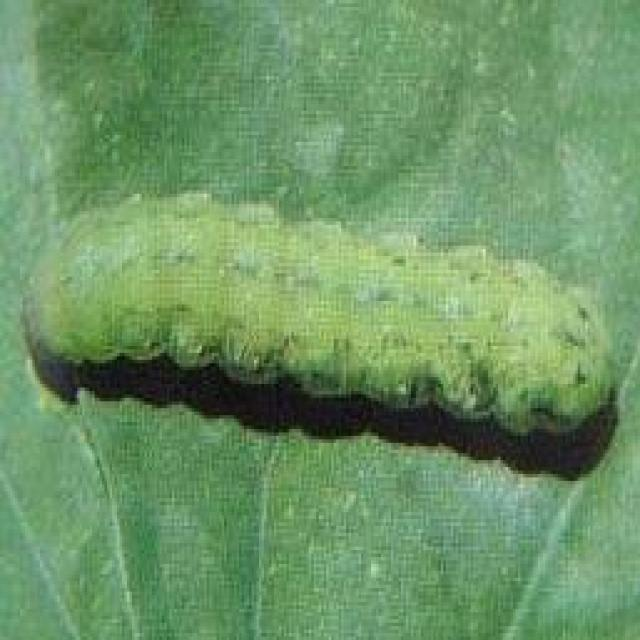BeetArmyWorm-Larva-: (23, 167, 610, 440)
